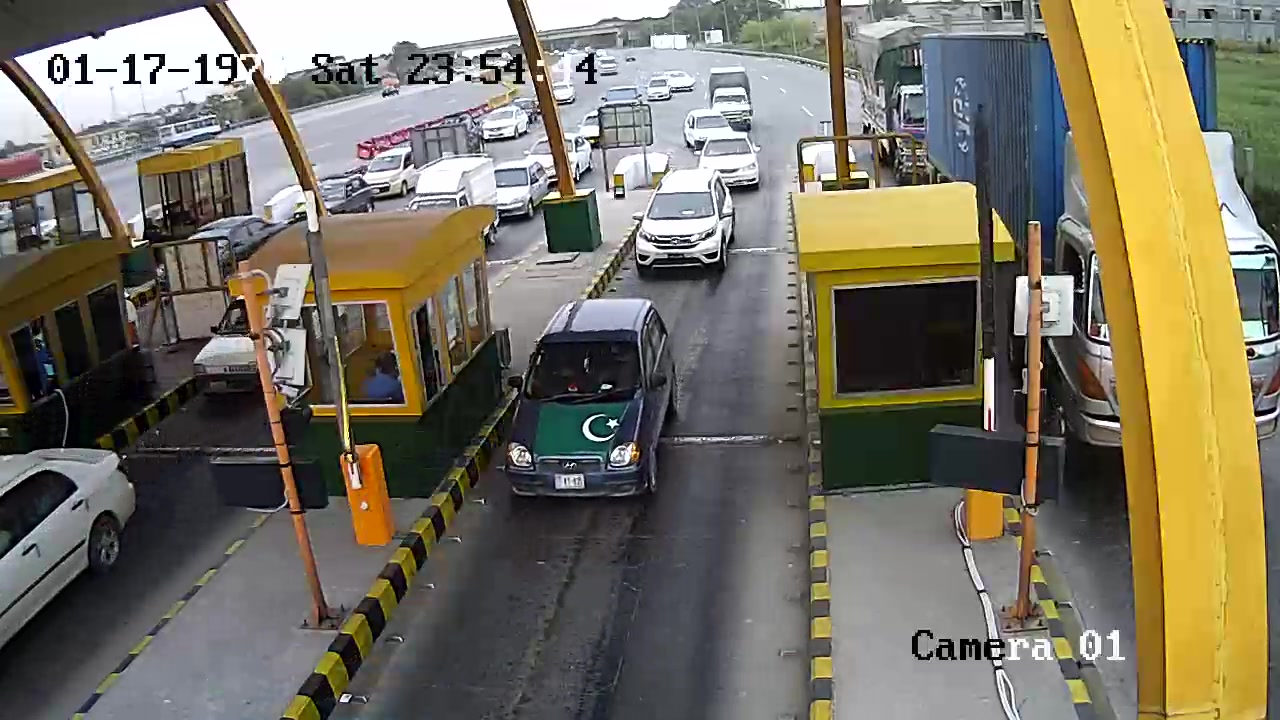F1: (501, 292, 689, 511)
